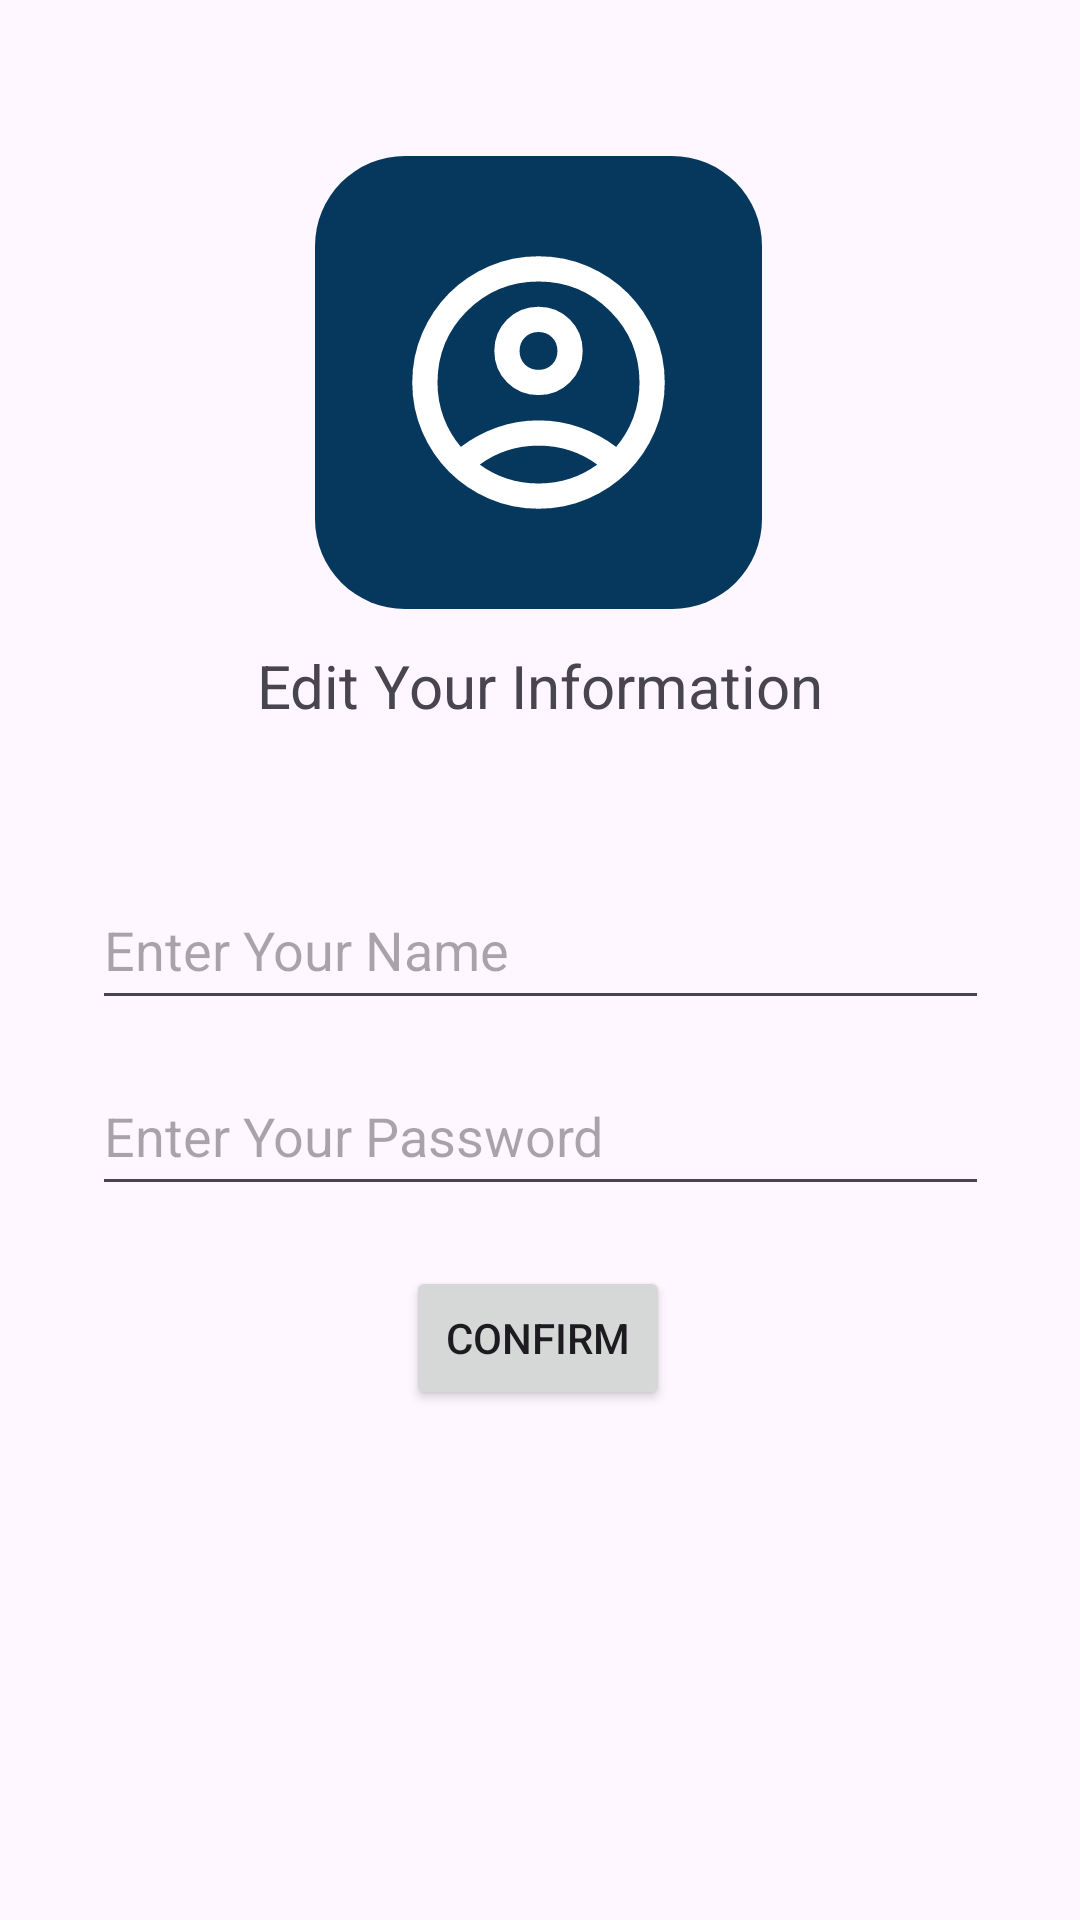

Point at icon controls on the screen. Image size 1080 × 1920, points as [x,y].
account circle: [538,382]
